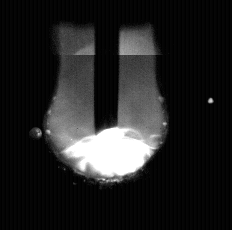arame: (95, 0, 119, 135)
poca: (45, 0, 169, 230)
